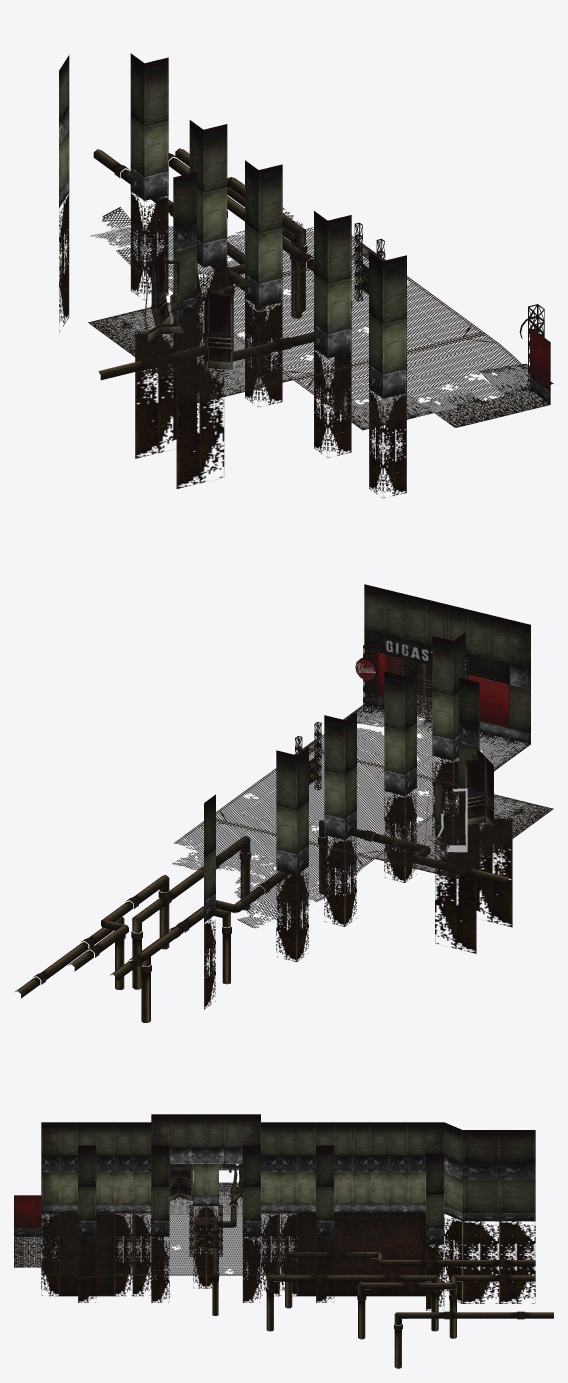
Rendered from SPU0301.glb.
The picture shows the model from 3 angles, top to bottom: view 1: azimuth 30°, elevation 25°; view 2: azimuth 150°, elevation 25°; view 3: azimuth 270°, elevation 25°; orthographic projection. The views are drawn at different scales.
Parts seen in each view (by area): view 1: M102_m1, M103_m0, SPUG02_B_m0, 101_2_BA_m0, SPUG03_B_m0, M104_m1, M102_m0, M104_m2, M104_m0, M101_m0, 102_7_BA_m0, 103_3_BA_m0 (+10 smaller); view 2: M102_m2, SPUG02_B_m0, M104_m1, M103_m0, 101_2_BA_m0, SPUG03_B_m0, M102_m1, M104_m0, M102_m0, 104_4_BA_m0, 103_4_BA_m0, M101_m0 (+12 smaller); view 3: M104_m1, 104_8_BA_m0, M104_m0, M102_m0, M101_m0, SPUG02_B_m0, 102_9_BA_m0, M102_m1, M103_m0, 101_2_BA_m0, M104_m2, M102_m2 (+24 smaller).
Boxes of the visible parts, x1,y1,x2,y2 form: M102_m1: (321, 251, 553, 430); M103_m0: (245, 160, 385, 357); SPUG02_B_m0: (197, 252, 485, 379); 101_2_BA_m0: (135, 310, 224, 488); SPUG03_B_m0: (88, 302, 292, 403); M104_m1: (59, 55, 374, 295); M102_m0: (293, 307, 544, 402); M104_m2: (130, 53, 168, 200); M104_m0: (189, 120, 227, 267); M101_m0: (173, 172, 224, 323); 102_7_BA_m0: (369, 389, 406, 498); 103_3_BA_m0: (314, 349, 351, 457); M102_m2: (364, 584, 530, 744); SPUG02_B_m0: (216, 748, 458, 858); M104_m1: (172, 820, 374, 928); M103_m0: (295, 668, 416, 839); 101_2_BA_m0: (435, 798, 512, 953); SPUG03_B_m0: (375, 794, 553, 878); M102_m1: (343, 632, 530, 770); M104_m0: (276, 747, 308, 874); M102_m0: (304, 644, 494, 785); 104_4_BA_m0: (276, 867, 308, 961); 103_4_BA_m0: (324, 832, 356, 926); M101_m0: (435, 677, 479, 836); M104_m1: (279, 1122, 535, 1275); 104_8_BA_m0: (279, 1213, 535, 1303); M104_m0: (279, 1122, 425, 1236); M102_m0: (41, 1122, 133, 1278); M101_m0: (132, 1114, 279, 1213); SPUG02_B_m0: (132, 1213, 279, 1275); 102_9_BA_m0: (41, 1213, 133, 1296); M102_m1: (14, 1145, 96, 1275); M103_m0: (151, 1145, 260, 1256); 101_2_BA_m0: (132, 1206, 279, 1296); M104_m2: (426, 1153, 444, 1244); M102_m2: (14, 1195, 41, 1236).
Size of the model in its own units: 13.71 by 10.8 by 29.5.
Materials: 20 (19 with a texture image).
